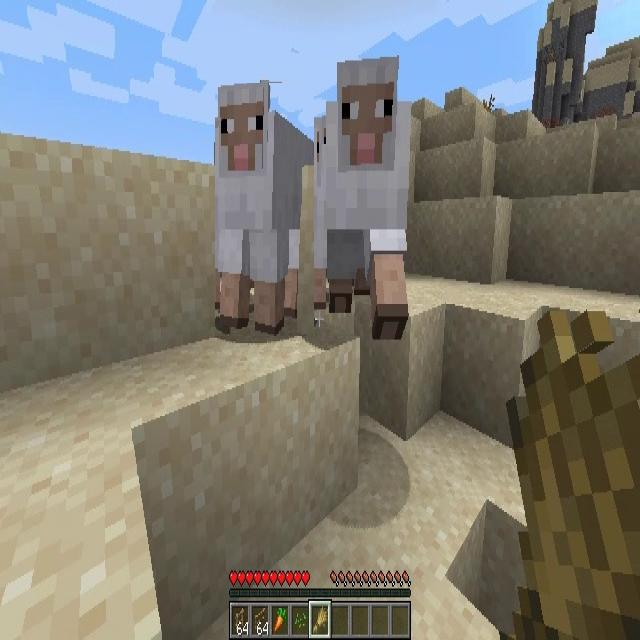sheep: (215, 83, 314, 336), (325, 55, 413, 336)
